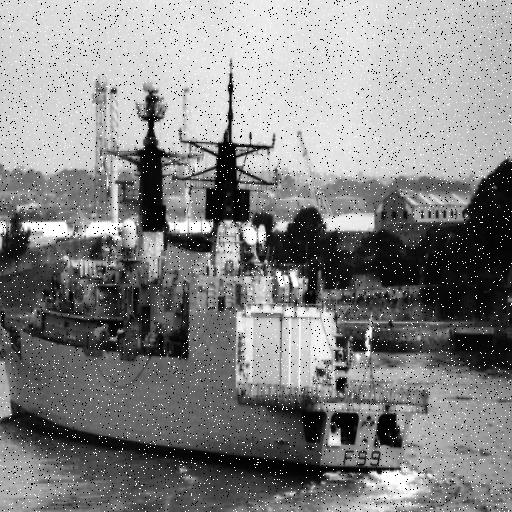Fragata: (1, 46, 431, 472)
